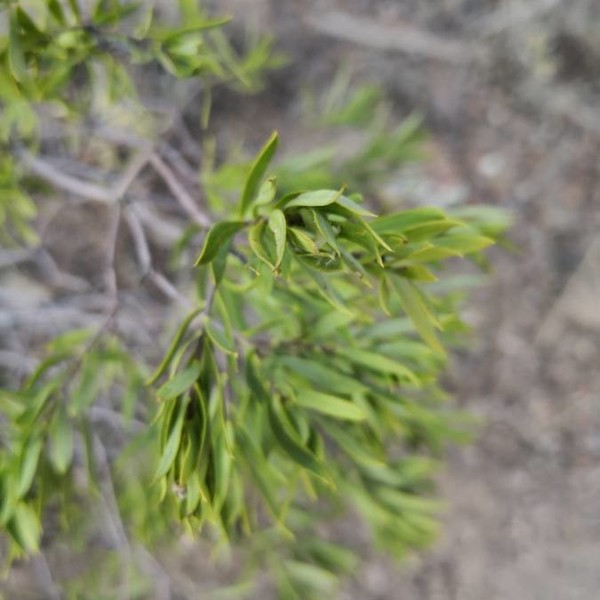obstacle: (121, 137, 455, 535)
